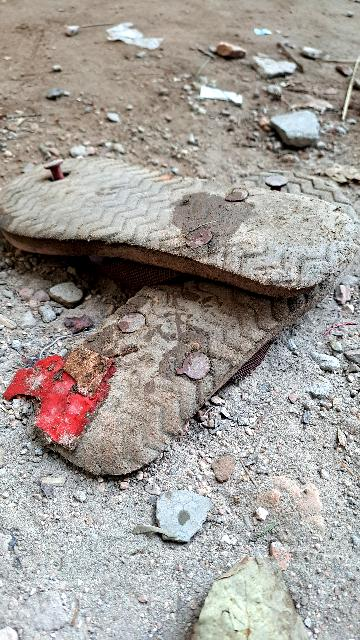sandal: (26, 103, 355, 488), (1, 146, 352, 285)
